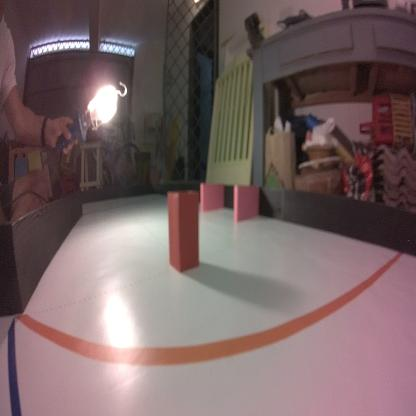magenta: (232, 180, 261, 223), (199, 181, 225, 214)
red: (165, 187, 202, 278)
